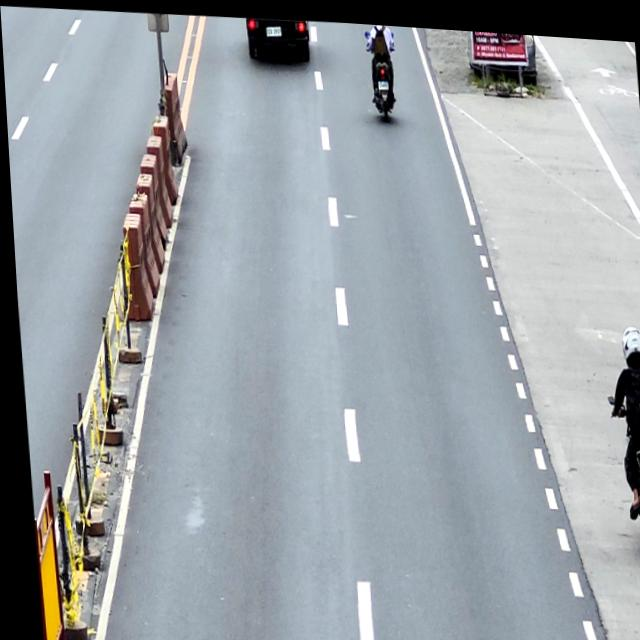Car: (245, 13, 310, 60)
License-Plate: (264, 22, 281, 33), (377, 76, 388, 85)
Motorcycle: (600, 382, 640, 552), (365, 25, 398, 117)
